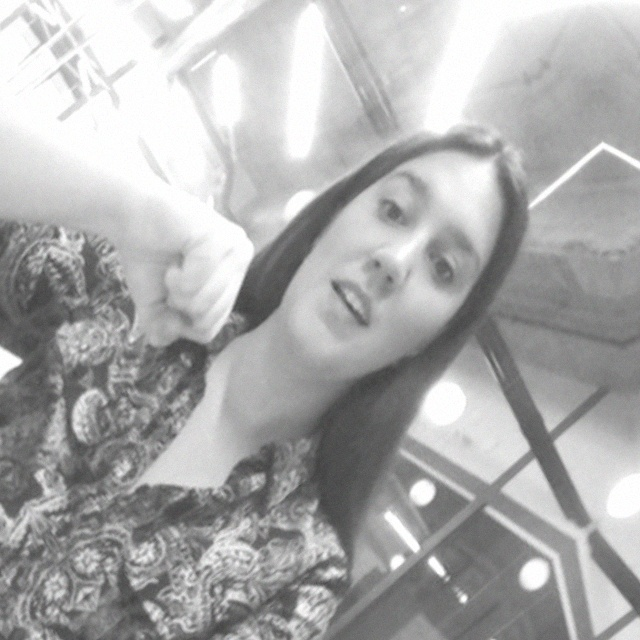Rock: (62, 139, 297, 398)
